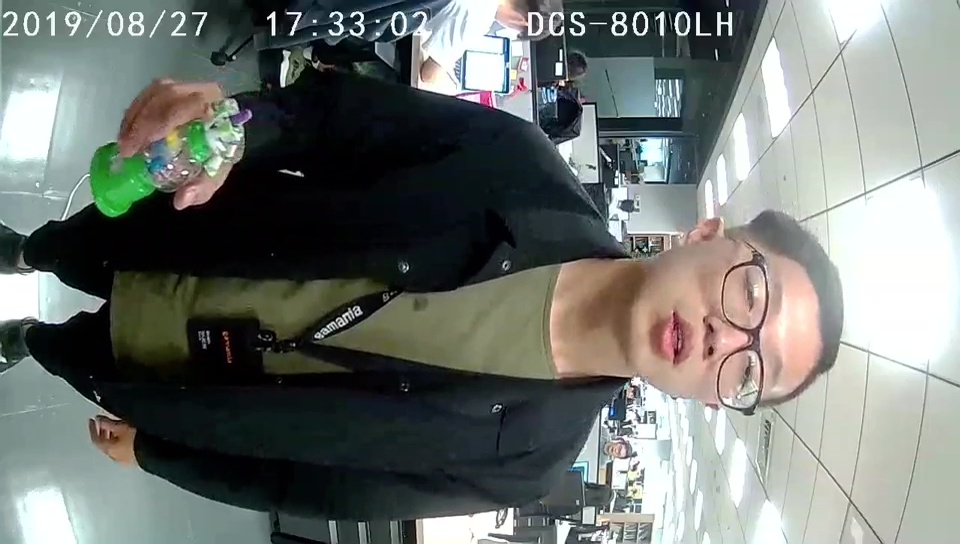buzz: (91, 97, 251, 218)
